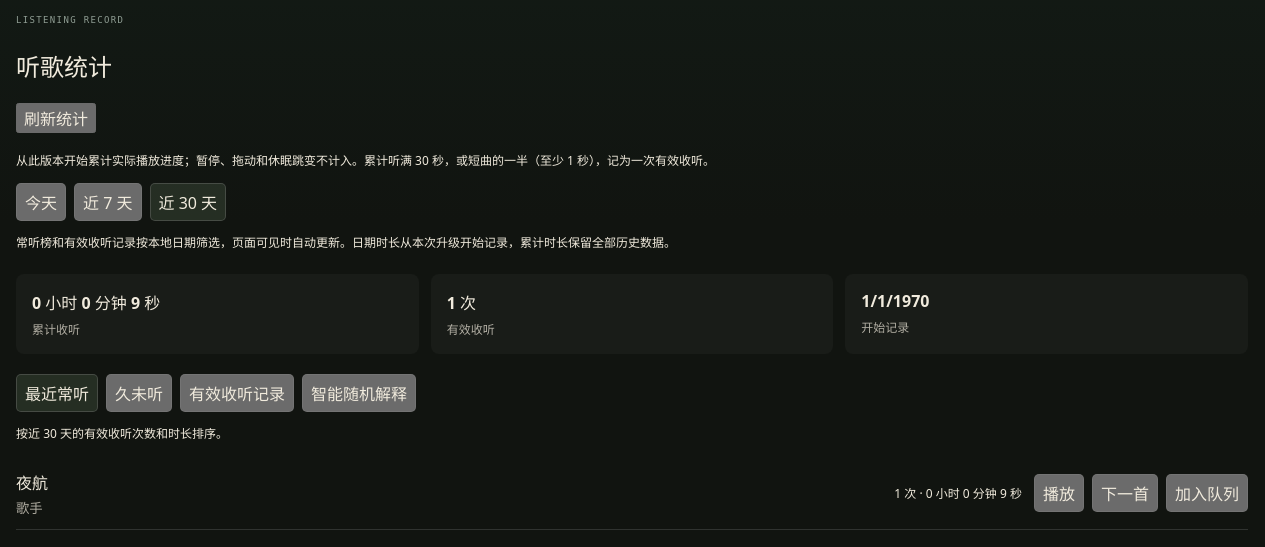
Test: 有效收听记录显示逐次时间记录，不将累计曲目重复当作事件
expect the text "1 次" is shown: met, box [447,292,476,314]
Click the button "有效收听记录" at (237, 393), box [180,374,294,412]
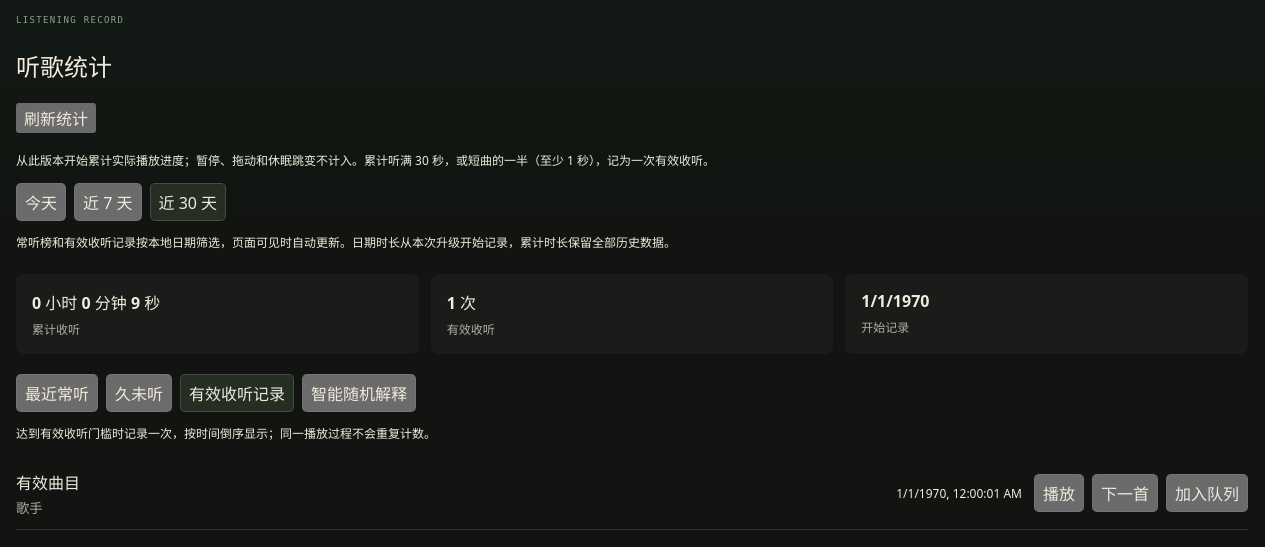
expect the number of list items is 1: met, box [16,458,1248,530]
expect the text "有效曲目" is shown: met, box [16,472,80,494]
